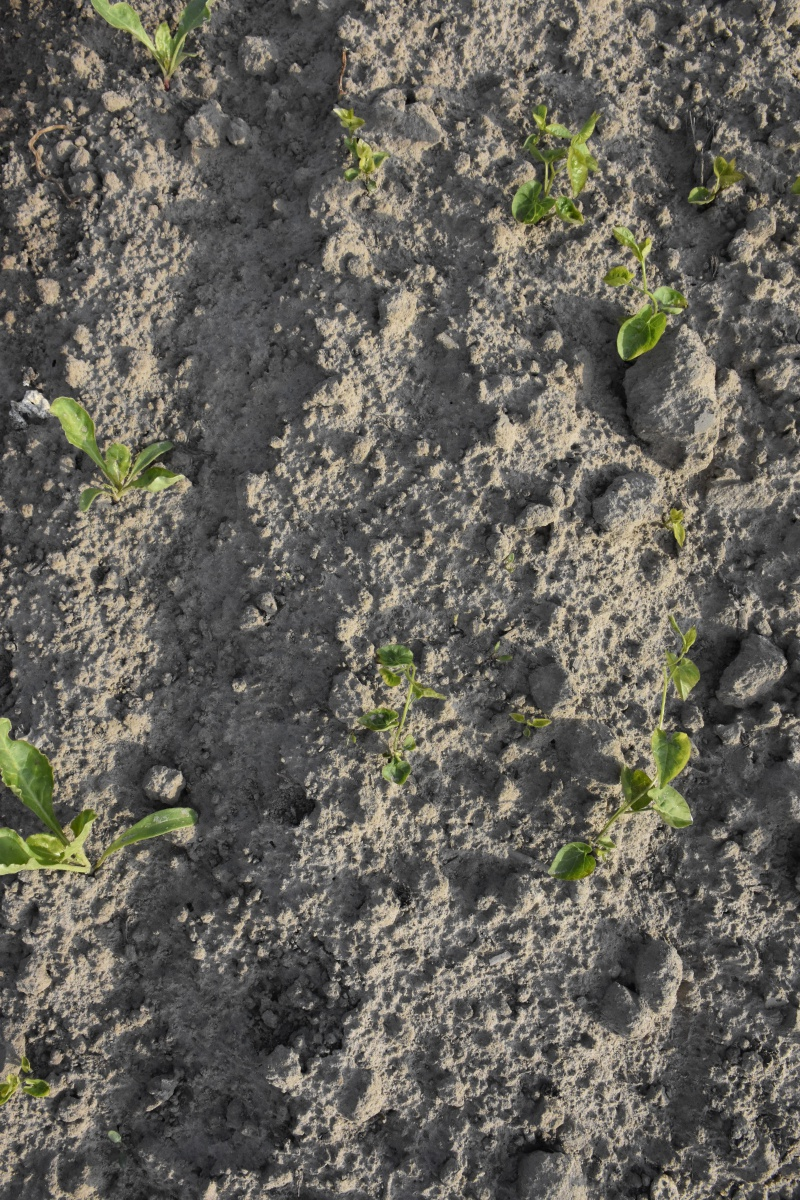field bindweed: (554, 604, 707, 924), (601, 215, 688, 372), (511, 95, 603, 228), (377, 636, 448, 785), (314, 101, 390, 199)
sugar beet: (1, 724, 214, 894), (47, 389, 190, 526), (101, 1, 217, 95)
